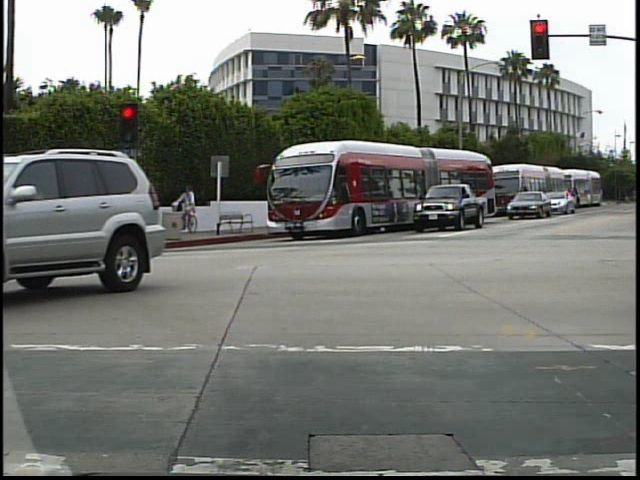person: (178, 183, 202, 235)
